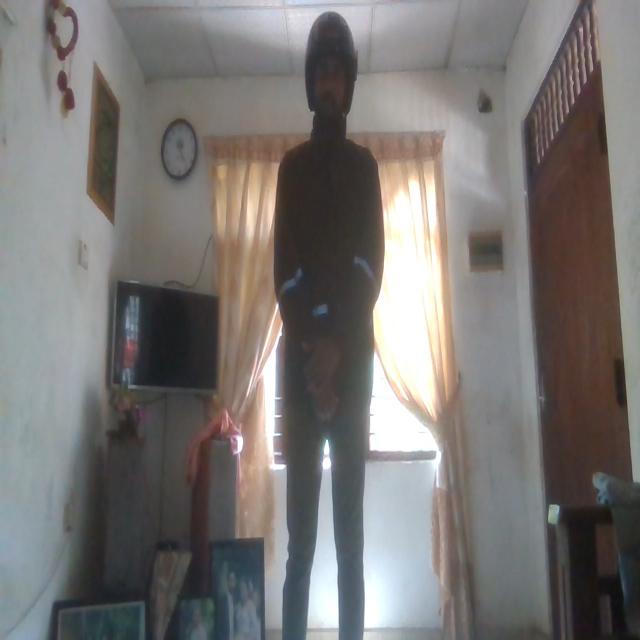Helmet_Wearer: (298, 3, 361, 134)
Jacket_Wearer: (263, 135, 382, 425)
Person: (269, 9, 385, 640)
